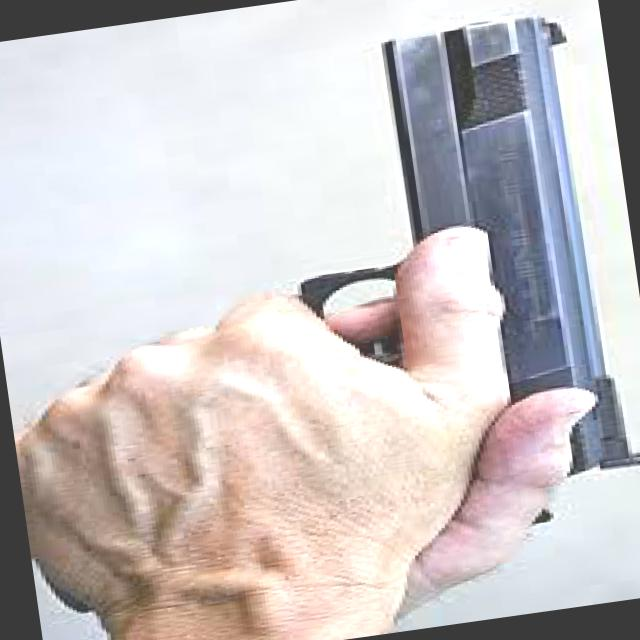handgun: (240, 5, 639, 567)
